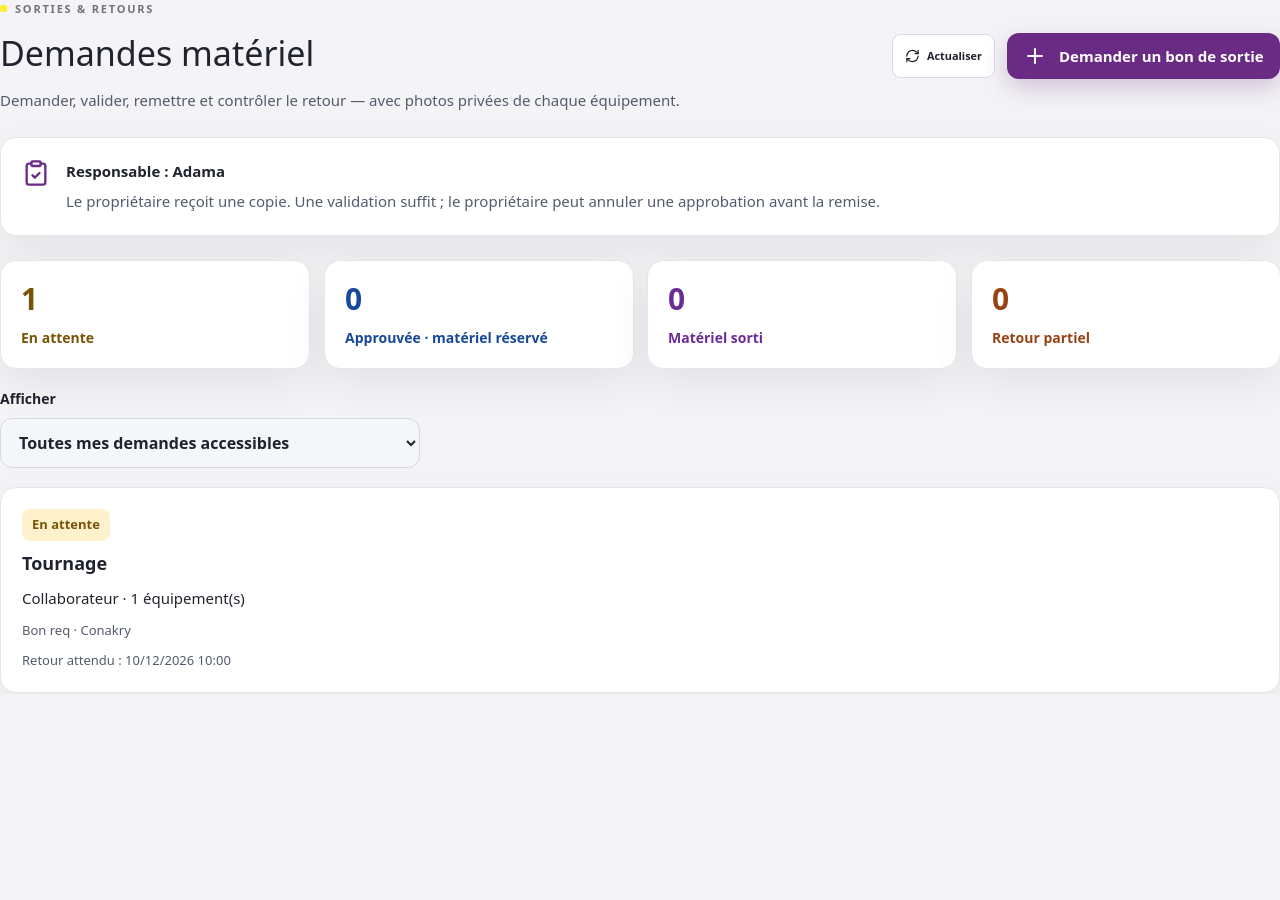
Test: bons de matériel › ne génère aucun PDF à la validation
Click the text "Tournage" at coordinates (64, 563), box 22,551 -> 107,576
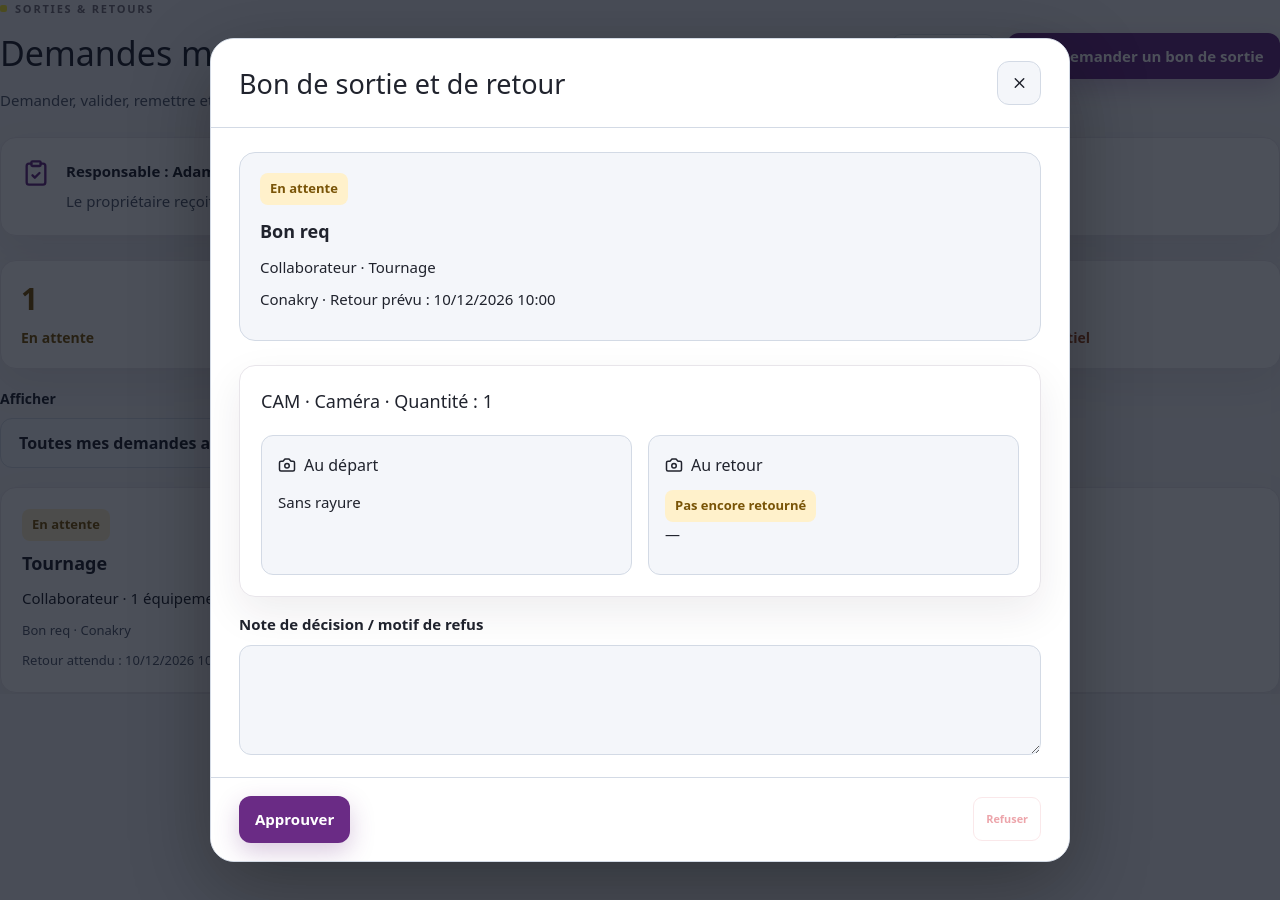
Click the button "Approuver" at coordinates (295, 819), box 239,796 -> 350,843
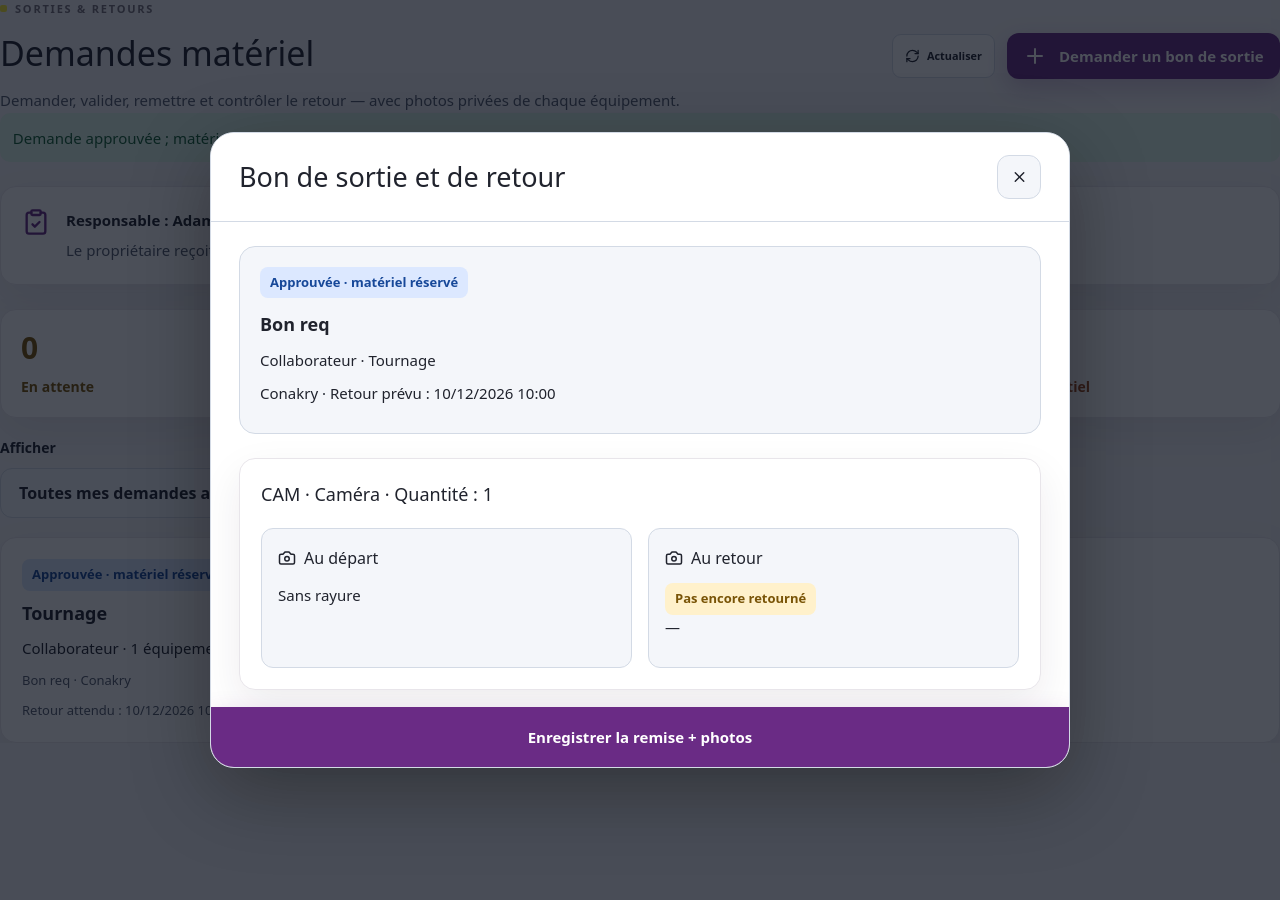
Expected: the text "Demande approuvée ; matériel réservé." is shown, 0,113 -> 1279,162
Expected: the button "Enregistrer la remise + photos" is shown, 211,707 -> 1069,767
